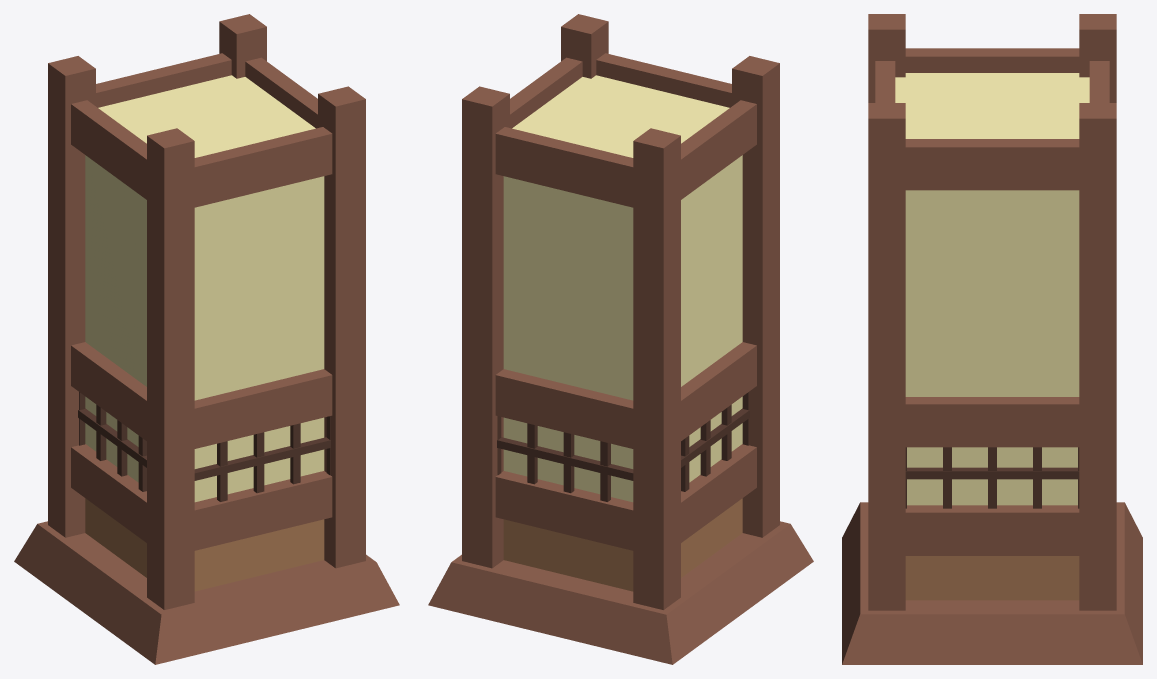
Rendered from light1.fbx.
The picture shows the model from 3 angles, left to right: view 1: azimuth 30°, elevation 25°; view 2: azimuth 150°, elevation 25°; view 3: azimuth 270°, elevation 25°; orthographic projection. The views are drawn at different scales.
Visible parts, largest first — view 1: Cube; view 2: Cube; view 3: Cube.
Boxes of the visible parts, x1,y1,x2,y2 form: Cube: (14,14,399,664); Cube: (428,14,813,664); Cube: (842,14,1142,664).
Bounding box in the file's own units: 200 × 392 × 200.
